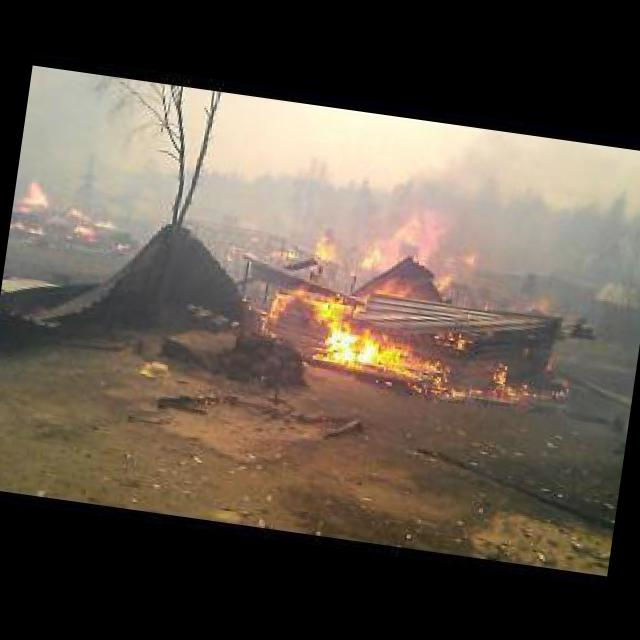Fire: (258, 186, 556, 400)
